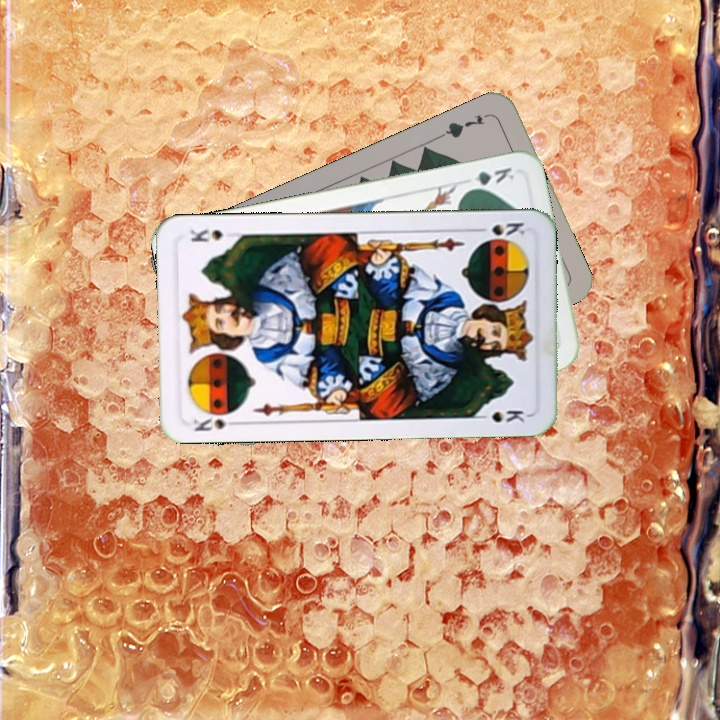G7: (436, 109, 493, 141)
GK: (461, 163, 517, 194)
SK: (470, 218, 528, 239), (190, 413, 243, 434)
